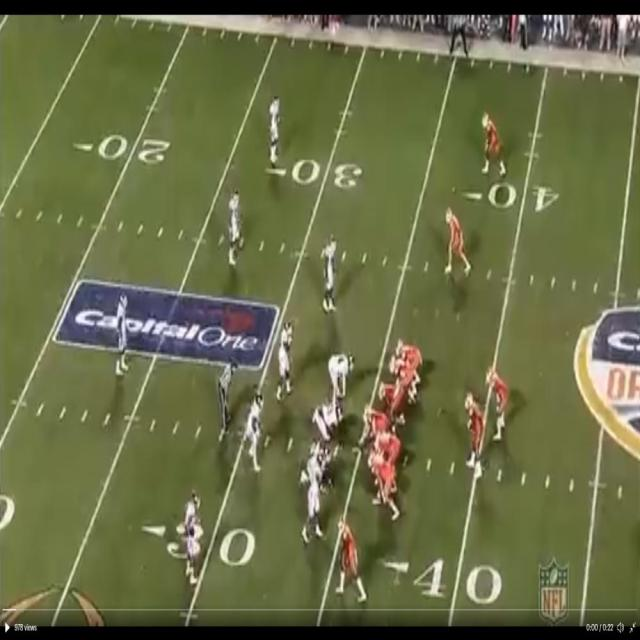center: (369, 407, 392, 435)
db: (184, 498, 201, 584), (116, 293, 132, 359), (228, 190, 242, 262), (268, 97, 280, 160)
lb: (247, 396, 264, 467), (278, 322, 294, 392), (326, 240, 338, 310)
qb: (467, 390, 486, 470)
skill: (336, 515, 369, 597), (444, 208, 469, 270), (484, 113, 506, 174), (491, 367, 508, 434), (395, 337, 422, 364)
